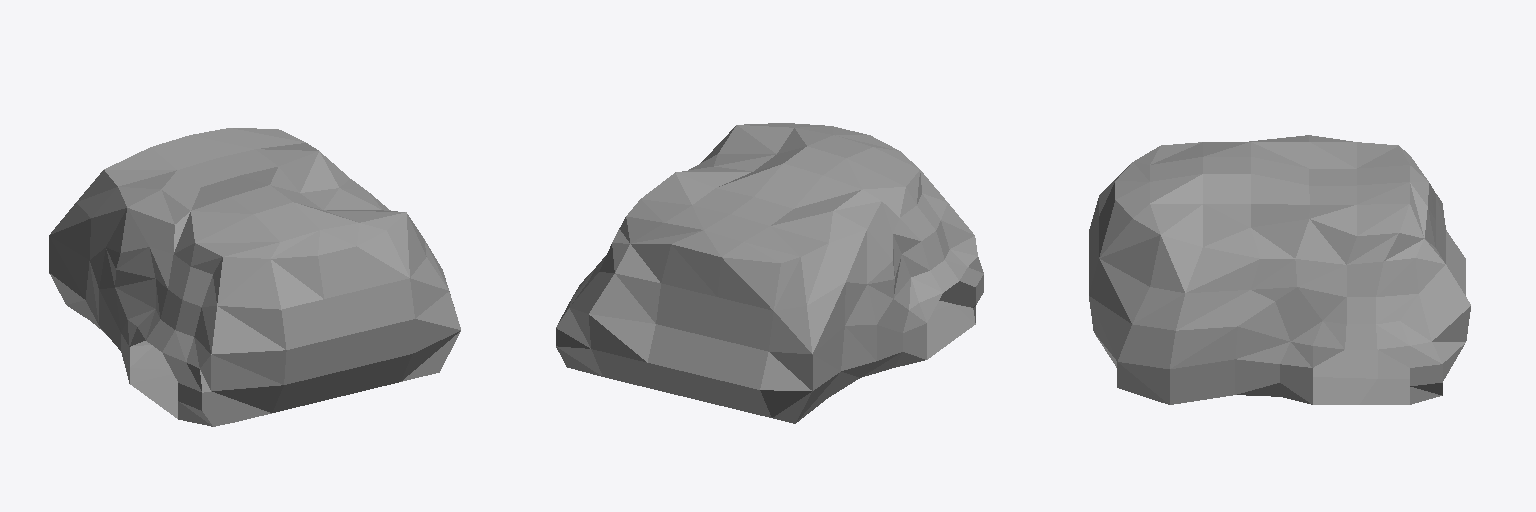
The model's file is Mesh_CavePack_Large_RoomSquare_lod0.obj.
3 renders of one model, left to right at view 1: azimuth 30°, elevation 25°; view 2: azimuth 150°, elevation 25°; view 3: azimuth 270°, elevation 25°, orthographic.
Visible parts, largest first — view 1: Plane; view 2: Plane; view 3: Plane.
Part boxes in pixels (left/top/right/bottom): Plane: left=49, top=128, right=460, bottom=426; Plane: left=556, top=123, right=983, bottom=423; Plane: left=1089, top=135, right=1470, bottom=404.
Size of the model in its own units: 32.43 by 17.81 by 37.68.